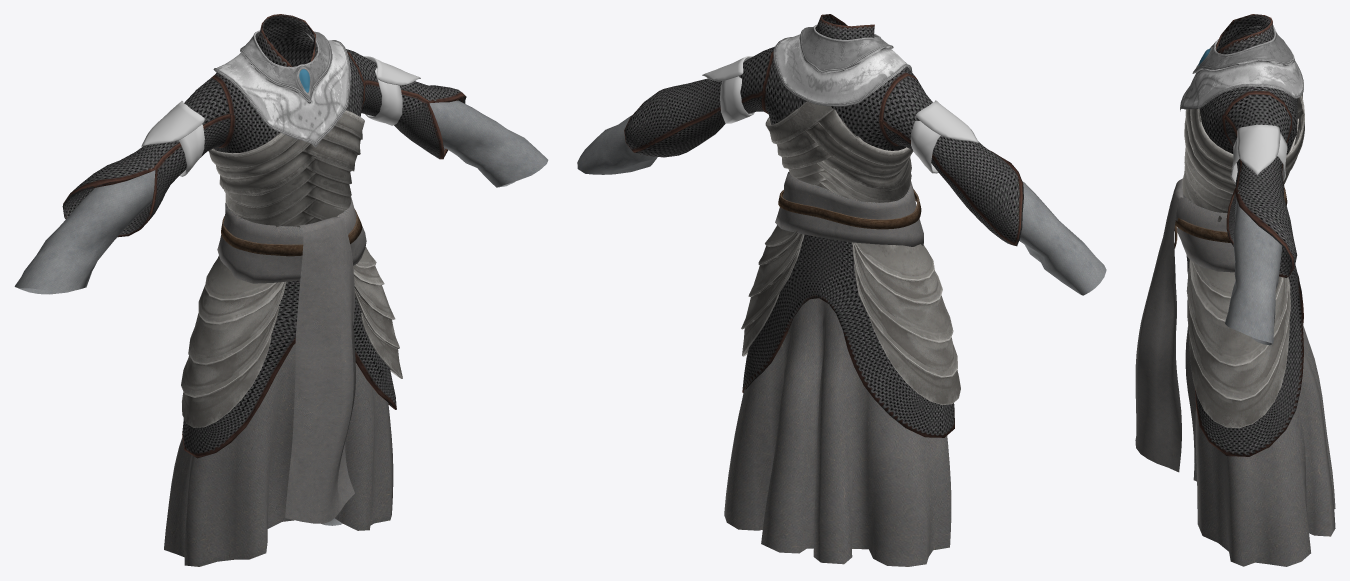
The model's file is rivendell_torso_lord1_silver.fbx.
3 views of the same model, side by side, from view 1: azimuth 30°, elevation 25°; view 2: azimuth 150°, elevation 25°; view 3: azimuth 270°, elevation 25° (orthographic). The views are drawn at different scales.
Parts seen in each view (by area): view 1: rivendell_torso_lord1_silver.0, rivendell_torso_lord1_silver.3, rivendell_torso_lord1_silver.6, rivendell_torso_lord1_silver.2, rivendell_torso_lord1_silver.1, rivendell_torso_lord1_silver.5, rivendell_torso_lord1_silver.4; view 2: rivendell_torso_lord1_silver.0, rivendell_torso_lord1_silver.6, rivendell_torso_lord1_silver.2, rivendell_torso_lord1_silver.1, rivendell_torso_lord1_silver.5, rivendell_torso_lord1_silver.3, rivendell_torso_lord1_silver.4; view 3: rivendell_torso_lord1_silver.0, rivendell_torso_lord1_silver.6, rivendell_torso_lord1_silver.3, rivendell_torso_lord1_silver.2, rivendell_torso_lord1_silver.5, rivendell_torso_lord1_silver.1, rivendell_torso_lord1_silver.4.
Part boxes in pixels (<box>): rivendell_torso_lord1_silver.0: <box>14,100,548,566</box>; rivendell_torso_lord1_silver.3: <box>217,196,366,523</box>; rivendell_torso_lord1_silver.6: <box>62,14,466,458</box>; rivendell_torso_lord1_silver.2: <box>181,247,402,427</box>; rivendell_torso_lord1_silver.1: <box>208,98,364,227</box>; rivendell_torso_lord1_silver.5: <box>213,29,350,147</box>; rivendell_torso_lord1_silver.4: <box>141,56,420,176</box>; rivendell_torso_lord1_silver.0: <box>577,115,1106,566</box>; rivendell_torso_lord1_silver.6: <box>624,14,1023,437</box>; rivendell_torso_lord1_silver.2: <box>741,225,960,404</box>; rivendell_torso_lord1_silver.1: <box>765,101,913,202</box>; rivendell_torso_lord1_silver.5: <box>773,25,912,106</box>; rivendell_torso_lord1_silver.3: <box>775,172,923,246</box>; rivendell_torso_lord1_silver.4: <box>702,56,978,173</box>; rivendell_torso_lord1_silver.0: <box>1185,198,1335,566</box>; rivendell_torso_lord1_silver.6: <box>1186,14,1303,456</box>; rivendell_torso_lord1_silver.3: <box>1135,178,1287,472</box>; rivendell_torso_lord1_silver.2: <box>1186,259,1290,428</box>; rivendell_torso_lord1_silver.5: <box>1180,26,1303,111</box>; rivendell_torso_lord1_silver.1: <box>1182,93,1304,221</box>; rivendell_torso_lord1_silver.4: <box>1230,124,1287,184</box>.
Size of the model in its own units: 1.52 by 0.5182 by 1.44.
